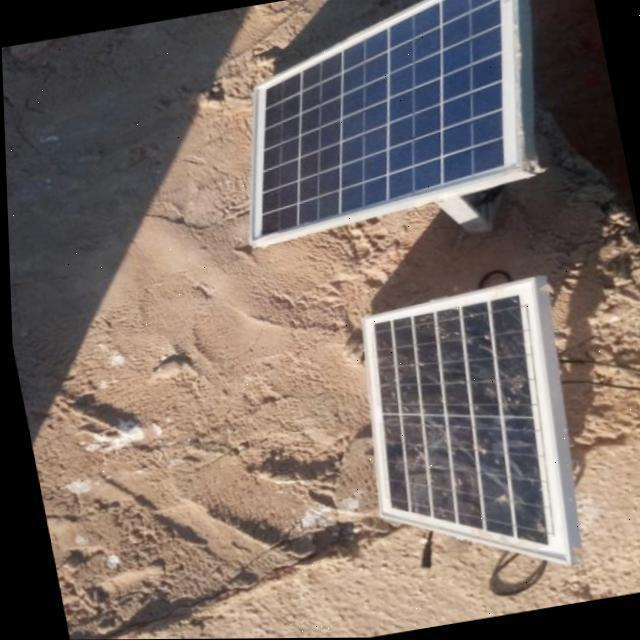Anomaly Solar Panel: (361, 278, 566, 567)
Normal Solar Panel: (249, 0, 515, 240)
Surface Contaminant: (373, 295, 542, 545)
